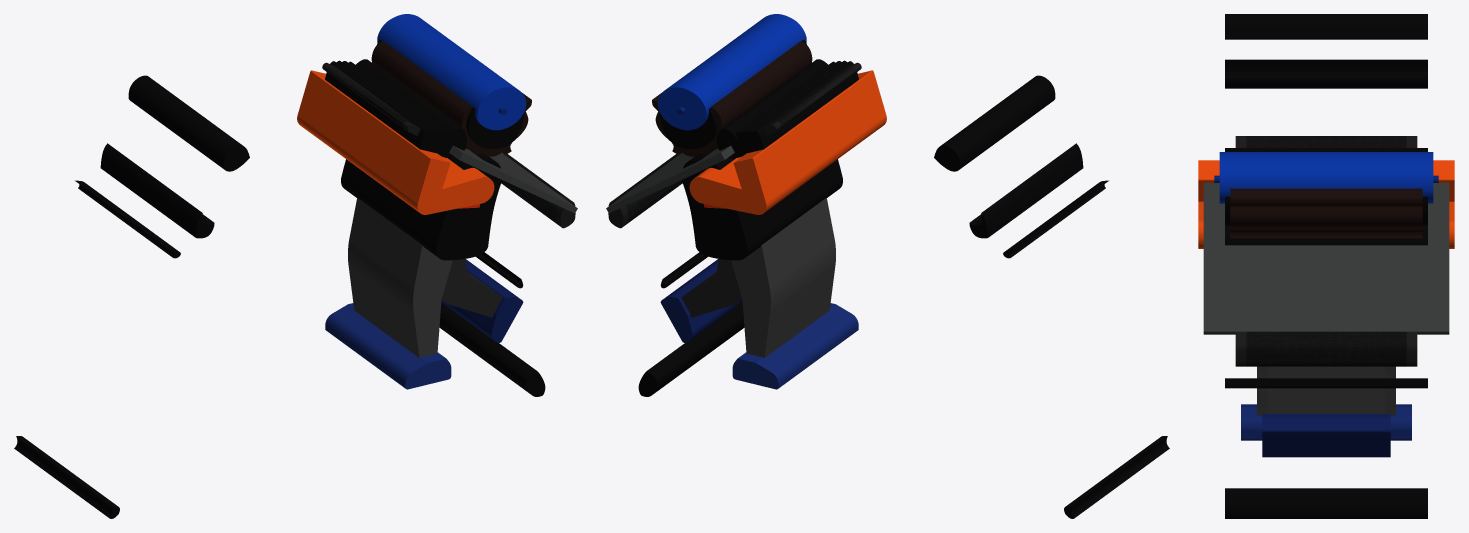
3 views of the same model, side by side, from view 1: azimuth 30°, elevation 25°; view 2: azimuth 150°, elevation 25°; view 3: azimuth 270°, elevation 25° (orthographic). The views are drawn at different scales.
Visible parts, largest first — view 1: U+1F3CC_layer14_obj00, U+1F3CC_layer03_obj00, U+1F3CC_layer10_obj00, U+1F3CC_layer09_obj04, U+1F3CC_layer06_obj00, U+1F3CC_layer09_obj05, U+1F3CC_layer08_obj00, U+1F3CC_layer09_obj01, U+1F3CC_layer09_obj02, U+1F3CC_layer09_obj07, U+1F3CC_layer13_obj00, U+1F3CC_layer01_obj00 (+9 smaller); view 2: U+1F3CC_layer14_obj00, U+1F3CC_layer03_obj00, U+1F3CC_layer10_obj00, U+1F3CC_layer09_obj04, U+1F3CC_layer06_obj00, U+1F3CC_layer09_obj05, U+1F3CC_layer08_obj00, U+1F3CC_layer09_obj01, U+1F3CC_layer09_obj02, U+1F3CC_layer09_obj07, U+1F3CC_layer13_obj00, U+1F3CC_layer01_obj00 (+9 smaller); view 3: U+1F3CC_layer13_obj00, U+1F3CC_layer08_obj00, U+1F3CC_layer10_obj00, U+1F3CC_layer09_obj07, U+1F3CC_layer09_obj01, U+1F3CC_layer05_obj00, U+1F3CC_layer02_obj00, U+1F3CC_layer09_obj05, U+1F3CC_layer01_obj00, U+1F3CC_layer07_obj00, U+1F3CC_layer09_obj00, U+1F3CC_layer05_obj01 (+7 smaller).
Boxes of the visible parts, x1,y1,x2,y2 form: U+1F3CC_layer14_obj00: (297, 70, 494, 214); U+1F3CC_layer03_obj00: (348, 198, 452, 357); U+1F3CC_layer10_obj00: (377, 14, 526, 130); U+1F3CC_layer09_obj04: (341, 149, 501, 260); U+1F3CC_layer06_obj00: (325, 303, 451, 389); U+1F3CC_layer09_obj05: (128, 75, 249, 171); U+1F3CC_layer08_obj00: (371, 40, 531, 156); U+1F3CC_layer09_obj01: (100, 143, 214, 238); U+1F3CC_layer09_obj02: (325, 60, 447, 153); U+1F3CC_layer09_obj07: (439, 302, 545, 396); U+1F3CC_layer13_obj00: (449, 145, 577, 213); U+1F3CC_layer01_obj00: (441, 259, 502, 317); U+1F3CC_layer14_obj00: (689, 70, 886, 214); U+1F3CC_layer03_obj00: (731, 198, 835, 357); U+1F3CC_layer10_obj00: (657, 14, 806, 130); U+1F3CC_layer09_obj04: (682, 149, 842, 260); U+1F3CC_layer06_obj00: (732, 303, 858, 389); U+1F3CC_layer09_obj05: (934, 75, 1055, 171); U+1F3CC_layer08_obj00: (652, 40, 812, 156); U+1F3CC_layer09_obj01: (969, 143, 1083, 238); U+1F3CC_layer09_obj02: (736, 60, 858, 153); U+1F3CC_layer09_obj07: (638, 302, 744, 396); U+1F3CC_layer13_obj00: (606, 145, 734, 213); U+1F3CC_layer01_obj00: (681, 259, 742, 317); U+1F3CC_layer13_obj00: (1203, 182, 1449, 334); U+1F3CC_layer08_obj00: (1230, 188, 1422, 238); U+1F3CC_layer10_obj00: (1219, 152, 1433, 203); U+1F3CC_layer09_obj07: (1225, 488, 1427, 518); U+1F3CC_layer09_obj01: (1225, 59, 1427, 88); U+1F3CC_layer05_obj00: (1246, 331, 1406, 366); U+1F3CC_layer02_obj00: (1262, 414, 1390, 457); U+1F3CC_layer09_obj05: (1225, 14, 1427, 39); U+1F3CC_layer01_obj00: (1267, 366, 1385, 413); U+1F3CC_layer07_obj00: (1235, 331, 1417, 366); U+1F3CC_layer09_obj00: (1225, 378, 1427, 388); U+1F3CC_layer05_obj01: (1246, 136, 1406, 147).
Size of the model in its own units: 0.5426 by 0.3769 by 0.24.
